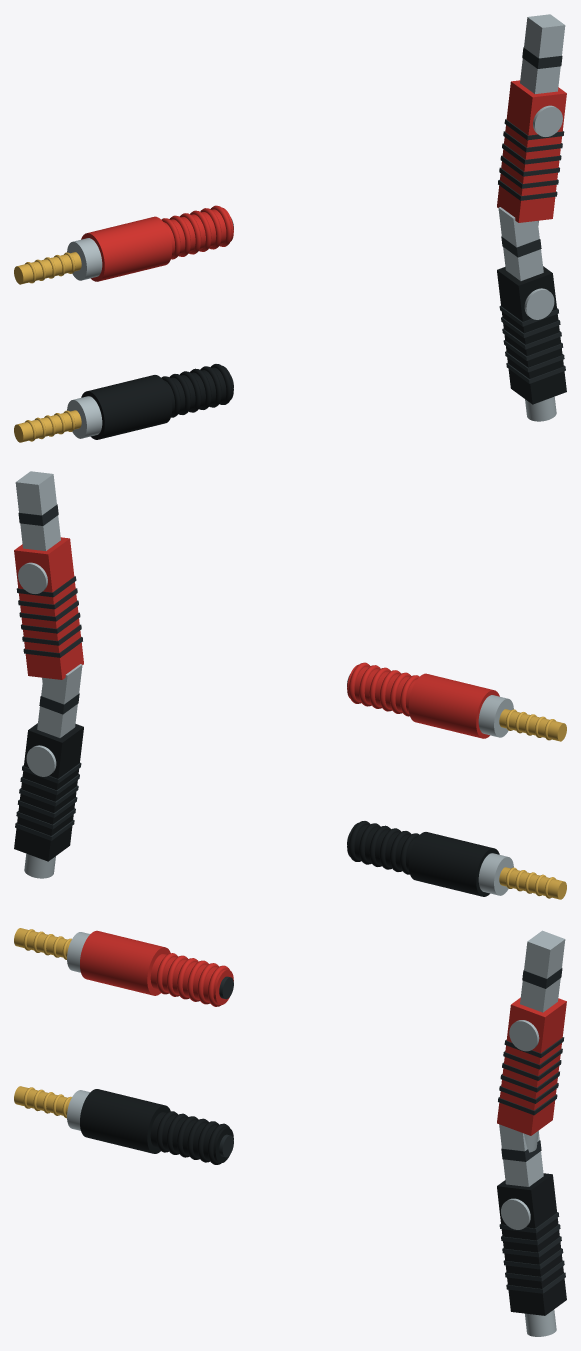
The model's file is positioner-test-connectors.glb.
3 views of the same model, one above another, from view 1: azimuth 30°, elevation 25°; view 2: azimuth 150°, elevation 25°; view 3: azimuth 330°, elevation 25° (orthographic).
Parts seen in each view (by area): view 1: positive_insulated_clip_body, common_insulated_clip_body, positive_insulated_plug, common_insulated_plug, positive_metal_jaw_upper, common_metal_jaw_upper, positive_strain_relief, common_strain_relief, common_4mm_contact_pin, positive_4mm_contact_pin, common_plug_shoulder, positive_plug_shoulder (+3 smaller); view 2: positive_insulated_clip_body, common_insulated_clip_body, positive_insulated_plug, common_insulated_plug, positive_metal_jaw_upper, common_metal_jaw_upper, positive_strain_relief, common_strain_relief, common_4mm_contact_pin, positive_4mm_contact_pin, common_plug_shoulder, positive_plug_shoulder (+3 smaller); view 3: common_insulated_clip_body, positive_insulated_clip_body, positive_insulated_plug, common_insulated_plug, positive_metal_jaw_upper, common_metal_jaw_upper, positive_strain_relief, common_strain_relief, positive_4mm_contact_pin, common_4mm_contact_pin, positive_jaw_pivot, common_jaw_pivot (+3 smaller).
Part boxes in pixels (<box>): positive_insulated_clip_body: <box>497,80,566,222</box>; common_insulated_clip_body: <box>497,266,566,404</box>; positive_insulated_plug: <box>81,216,172,281</box>; common_insulated_plug: <box>81,375,172,439</box>; positive_metal_jaw_upper: <box>520,14,565,93</box>; common_metal_jaw_upper: <box>498,207,543,280</box>; positive_strain_relief: <box>163,207,233,255</box>; common_strain_relief: <box>163,365,233,413</box>; common_4mm_contact_pin: <box>14,410,81,442</box>; positive_4mm_contact_pin: <box>14,252,81,284</box>; common_plug_shoulder: <box>67,396,102,438</box>; positive_plug_shoulder: <box>67,238,102,280</box>; positive_insulated_clip_body: <box>14,537,83,679</box>; common_insulated_clip_body: <box>14,723,83,861</box>; positive_insulated_plug: <box>408,673,499,738</box>; common_insulated_plug: <box>408,832,499,896</box>; positive_metal_jaw_upper: <box>15,471,60,550</box>; common_metal_jaw_upper: <box>37,664,82,737</box>; positive_strain_relief: <box>347,664,417,712</box>; common_strain_relief: <box>347,822,417,870</box>; common_4mm_contact_pin: <box>499,867,566,899</box>; positive_4mm_contact_pin: <box>499,709,566,741</box>; common_plug_shoulder: <box>478,853,513,895</box>; positive_plug_shoulder: <box>478,695,513,737</box>; common_insulated_clip_body: <box>497,1173,566,1315</box>; positive_insulated_clip_body: <box>497,997,566,1135</box>; positive_insulated_plug: <box>80,930,170,995</box>; common_insulated_plug: <box>80,1089,170,1153</box>; positive_metal_jaw_upper: <box>520,930,565,1012</box>; common_metal_jaw_upper: <box>499,1124,543,1186</box>; positive_strain_relief: <box>150,954,233,1004</box>; common_strain_relief: <box>150,1112,233,1163</box>; positive_4mm_contact_pin: <box>14,928,70,957</box>; common_4mm_contact_pin: <box>14,1086,70,1115</box>; positive_jaw_pivot: <box>509,1020,539,1051</box>; common_jaw_pivot: <box>501,1198,530,1229</box>.
Bounding box in the file's own units: 0.0999 × 0.0701 × 0.0082.
